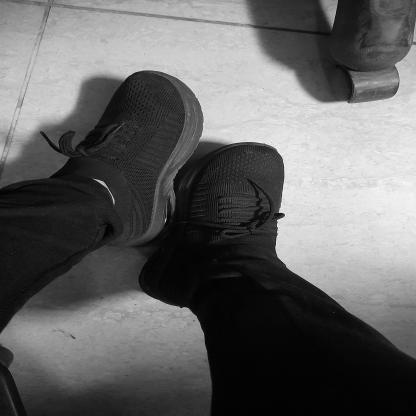ankle: (189, 268, 193, 272), (115, 200, 120, 202)
heel: (127, 245, 132, 248), (162, 299, 165, 301)
left_foot: (58, 71, 204, 249)
pinky: (117, 95, 119, 98), (281, 172, 284, 173)
right_foot: (140, 143, 286, 308)
toe: (164, 79, 168, 82), (231, 154, 235, 156)
